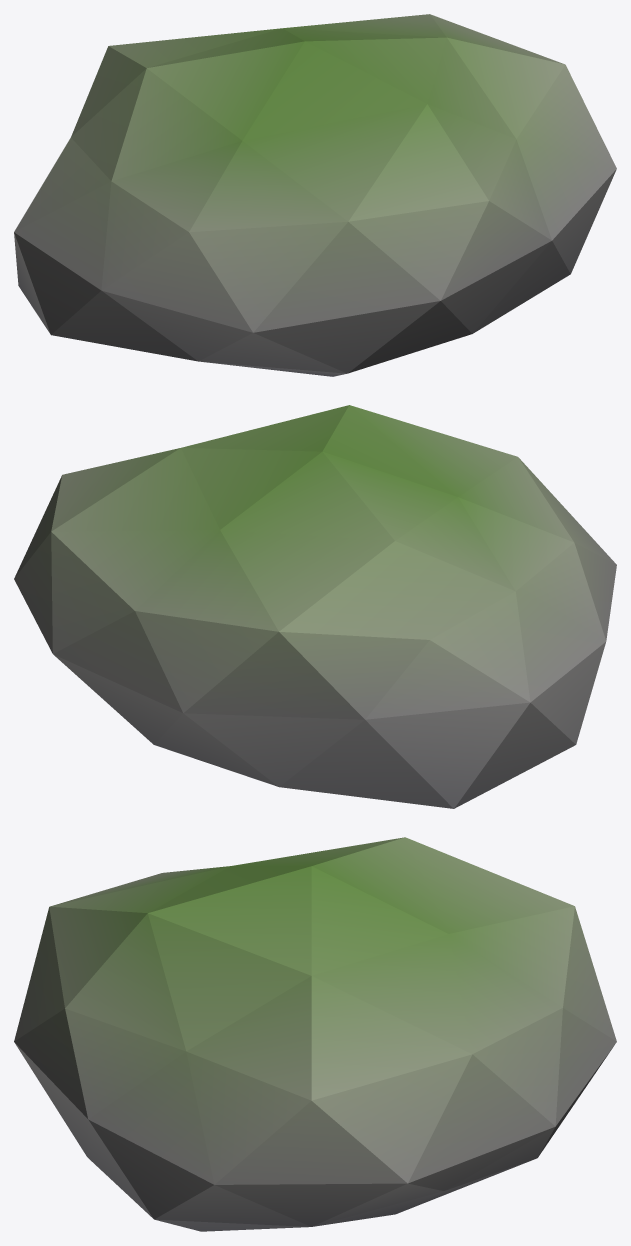
The model's file is f_rock1.glb.
The picture shows the model from 3 angles, top to bottom: view 1: azimuth 30°, elevation 25°; view 2: azimuth 150°, elevation 25°; view 3: azimuth 270°, elevation 25°; orthographic projection. The views are drawn at different scales.
Parts seen in each view (by area): view 1: rock1; view 2: rock1; view 3: rock1.
Boxes of the visible parts, x1,y1,x2,y2 form: rock1: [14, 14, 616, 376]; rock1: [14, 405, 616, 808]; rock1: [14, 837, 616, 1231].
Size of the model in its own units: 1.84 by 0.899 by 1.68.
